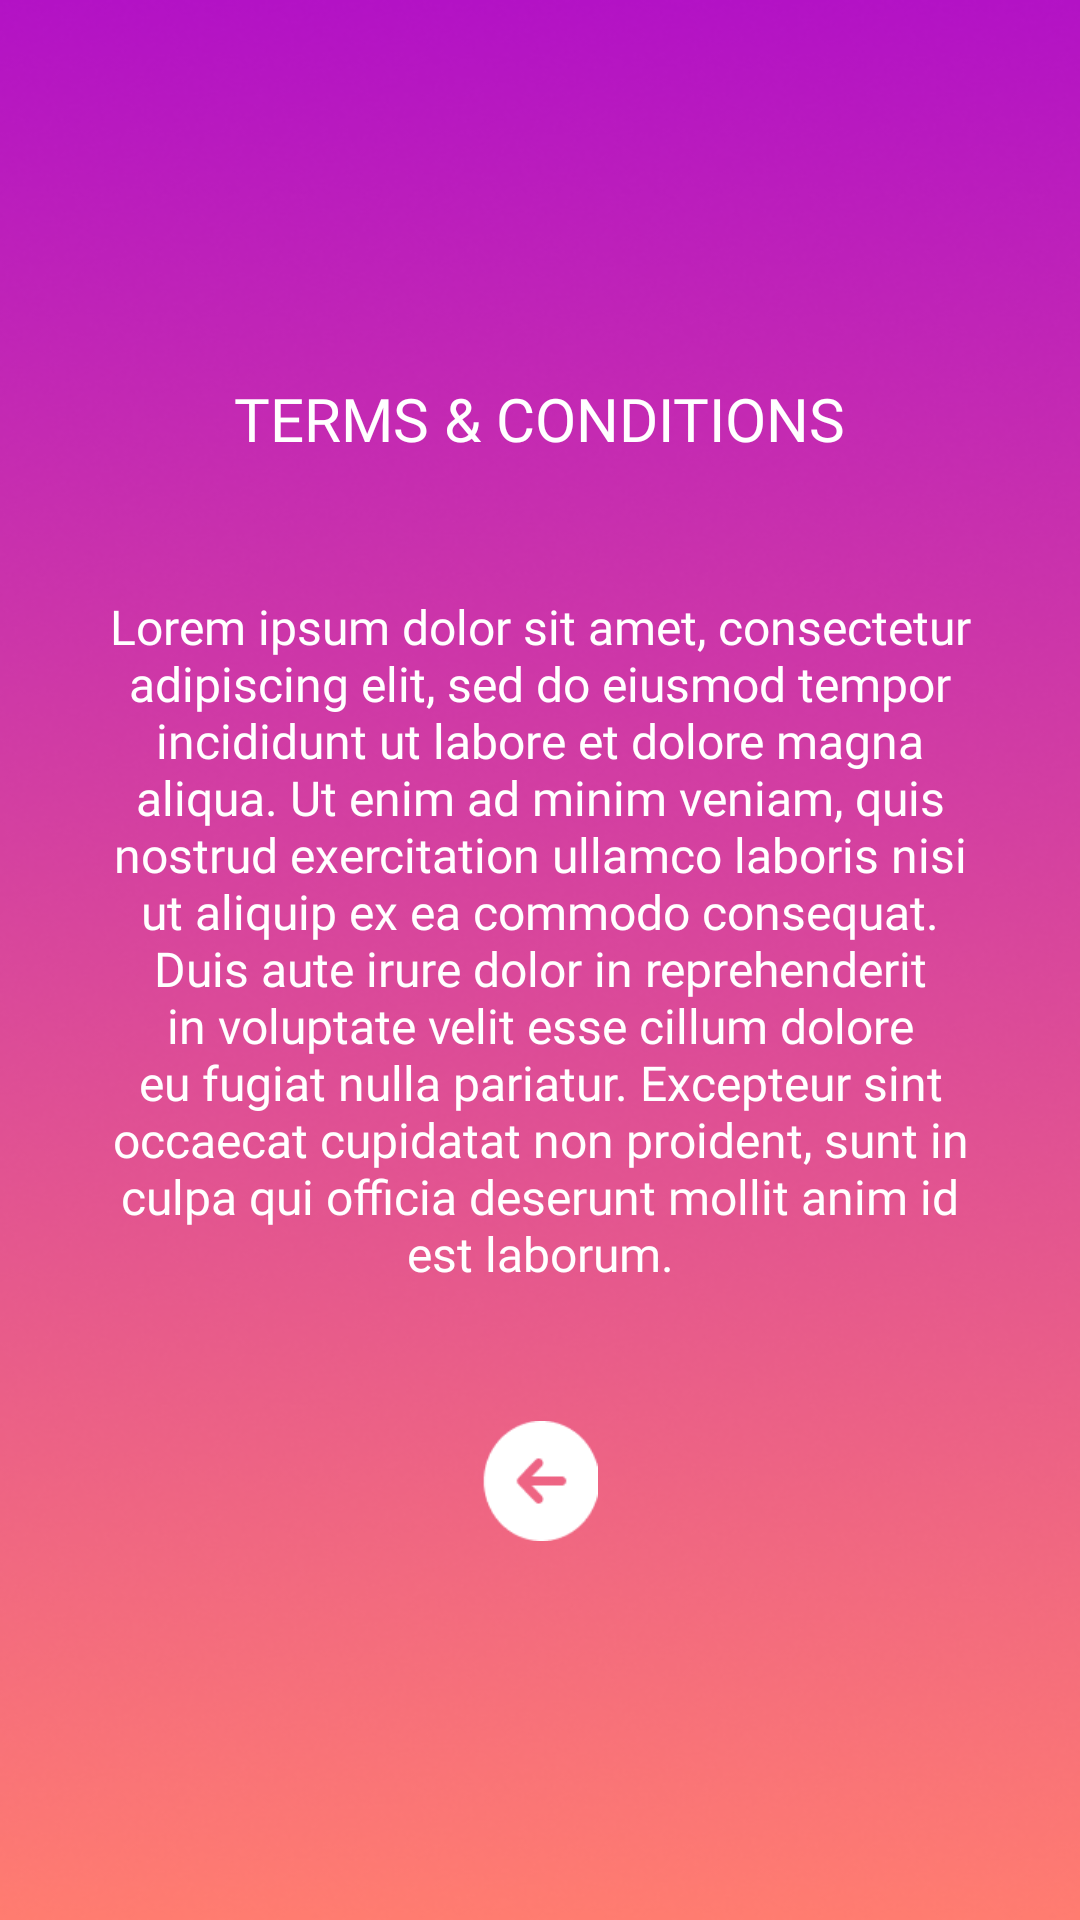

Screen size 1080×1920. Icon name, then its box in pixels as bbox=(x1, y1, x2, y2):
back: bbox=(483, 1421, 598, 1541)
